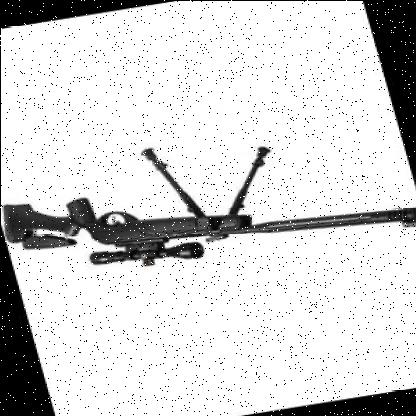rifle: (0, 142, 416, 298)
